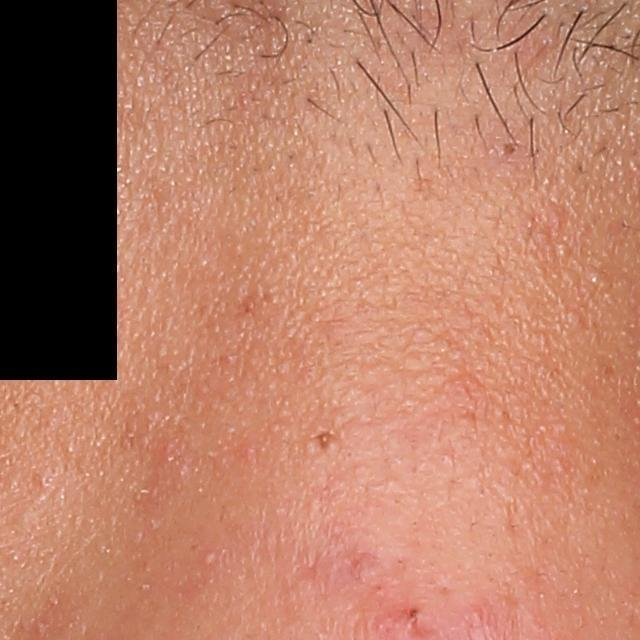comedo: (495, 138, 519, 161)
nevus: (313, 425, 334, 459)
